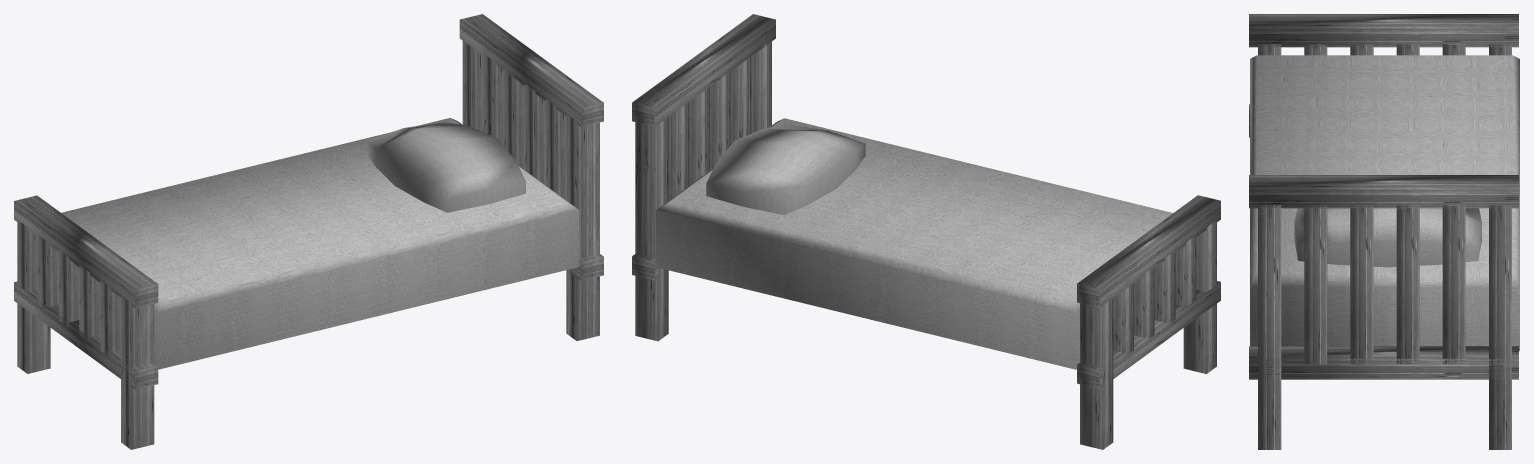
Rendered from bed.fbx.
3 renders of one model, left to right at view 1: azimuth 30°, elevation 25°; view 2: azimuth 150°, elevation 25°; view 3: azimuth 270°, elevation 25°, orthographic. The views are drawn at different scales.
Parts seen in each view (by area): view 1: Cube.002; view 2: Cube.002; view 3: Cube.002.
Part boxes in pixels (x1,y1,x2,y2): Cube.002: (14, 14, 603, 449); Cube.002: (632, 14, 1220, 449); Cube.002: (1249, 14, 1519, 449).
Bounding box in the file's own units: 446 × 215 × 201.
